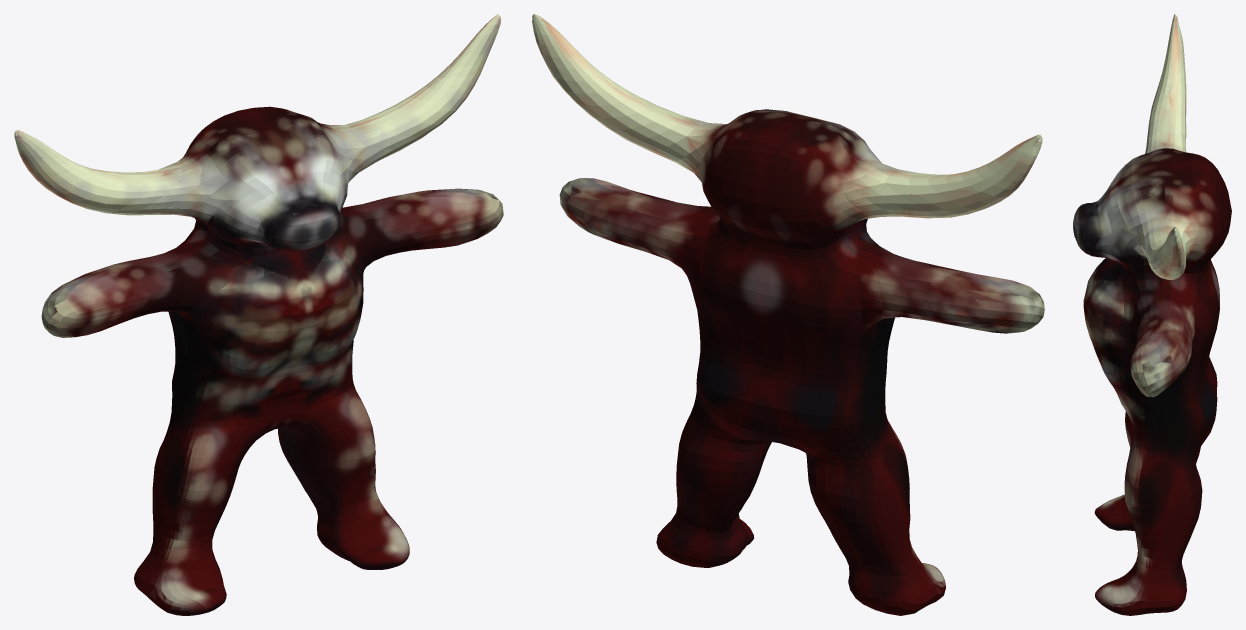
Rendered from Bull_Demon_test.fbx.
3 views of the same model, side by side, from view 1: azimuth 30°, elevation 25°; view 2: azimuth 150°, elevation 25°; view 3: azimuth 270°, elevation 25° (orthographic). The views are drawn at different scales.
Visible parts, largest first — view 1: Retopo_Sphere.001; view 2: Retopo_Sphere.001; view 3: Retopo_Sphere.001.
Boxes of the visible parts, x1,y1,x2,y2 form: Retopo_Sphere.001: [14, 14, 503, 615]; Retopo_Sphere.001: [532, 14, 1044, 615]; Retopo_Sphere.001: [1073, 14, 1231, 615].
Bounding box in the file's own units: 865 × 272 × 845.
1 material, 1 textured.
